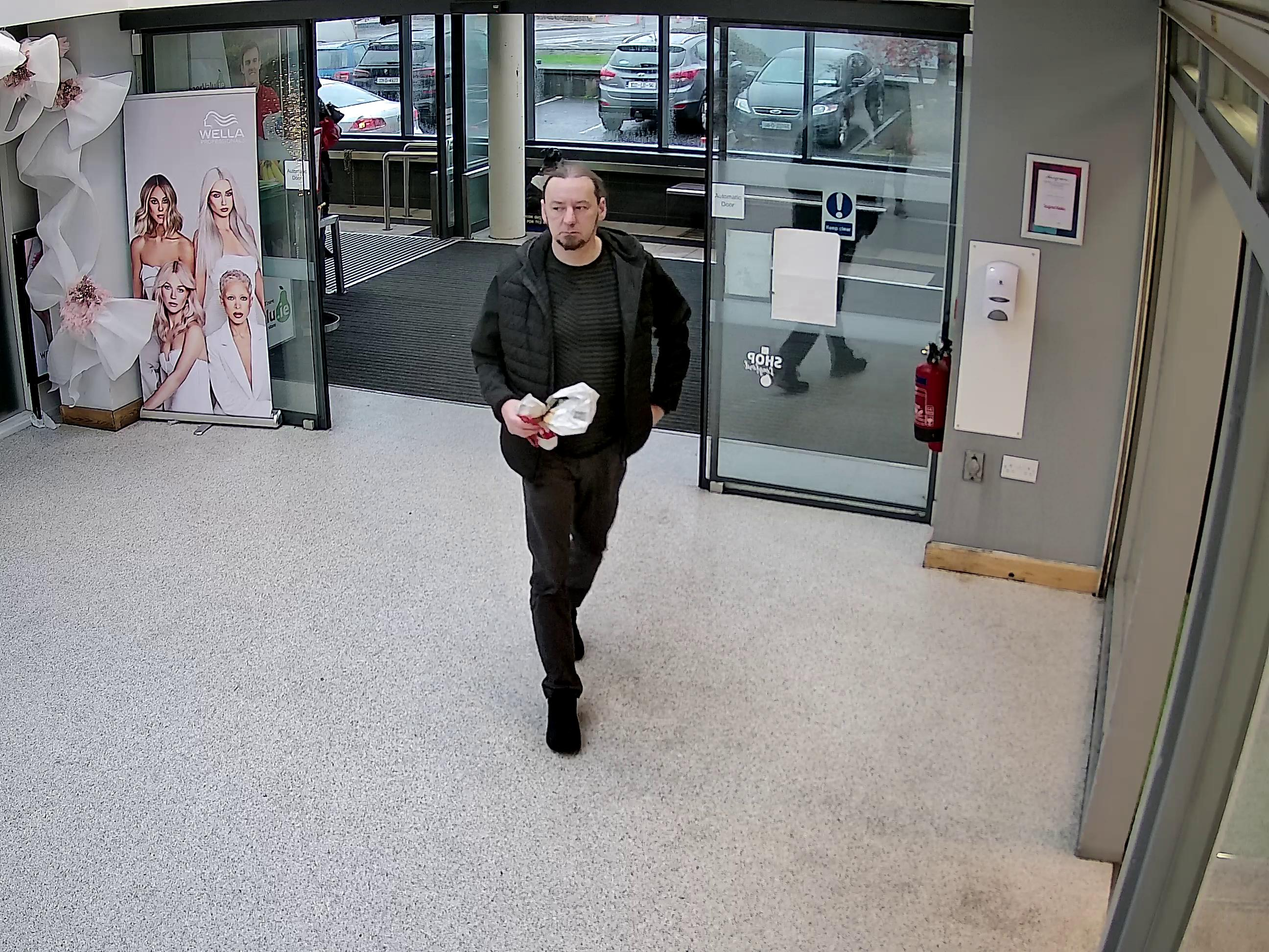empty-shopping-bags: (506, 376, 599, 450)
person: (475, 165, 690, 756)
person-with-empty-shopping-bag-s-: (476, 165, 693, 757)
